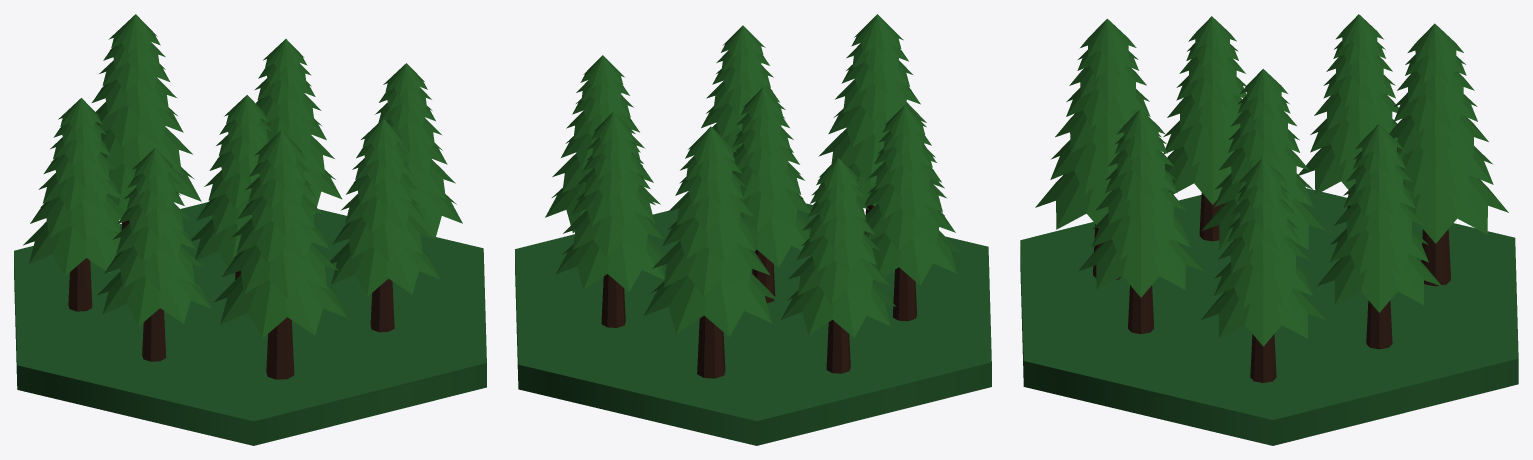
File: Tile_3.FBX
3 views of the same model, side by side, from view 1: azimuth 30°, elevation 25°; view 2: azimuth 150°, elevation 25°; view 3: azimuth 270°, elevation 25° (orthographic). The views are drawn at different scales.
Visible parts, largest first — view 1: Ground; view 2: Ground; view 3: Ground.
Boxes of the visible parts, box(x1,y1,x2,y2) form: Ground: box(14, 14, 486, 445); Ground: box(515, 14, 991, 445); Ground: box(1020, 14, 1518, 445).
Bounding box in the file's own units: 39.37 × 21.53 × 34.33.
